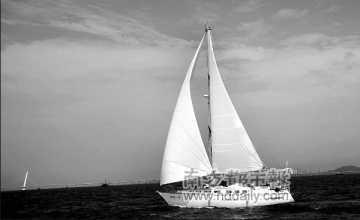fanchuan: (154, 28, 299, 212)
